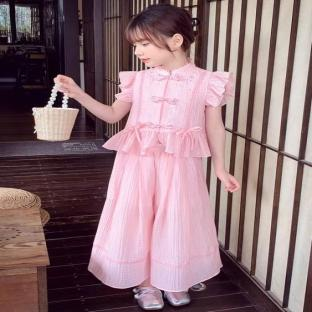Human: (54, 4, 239, 309)
